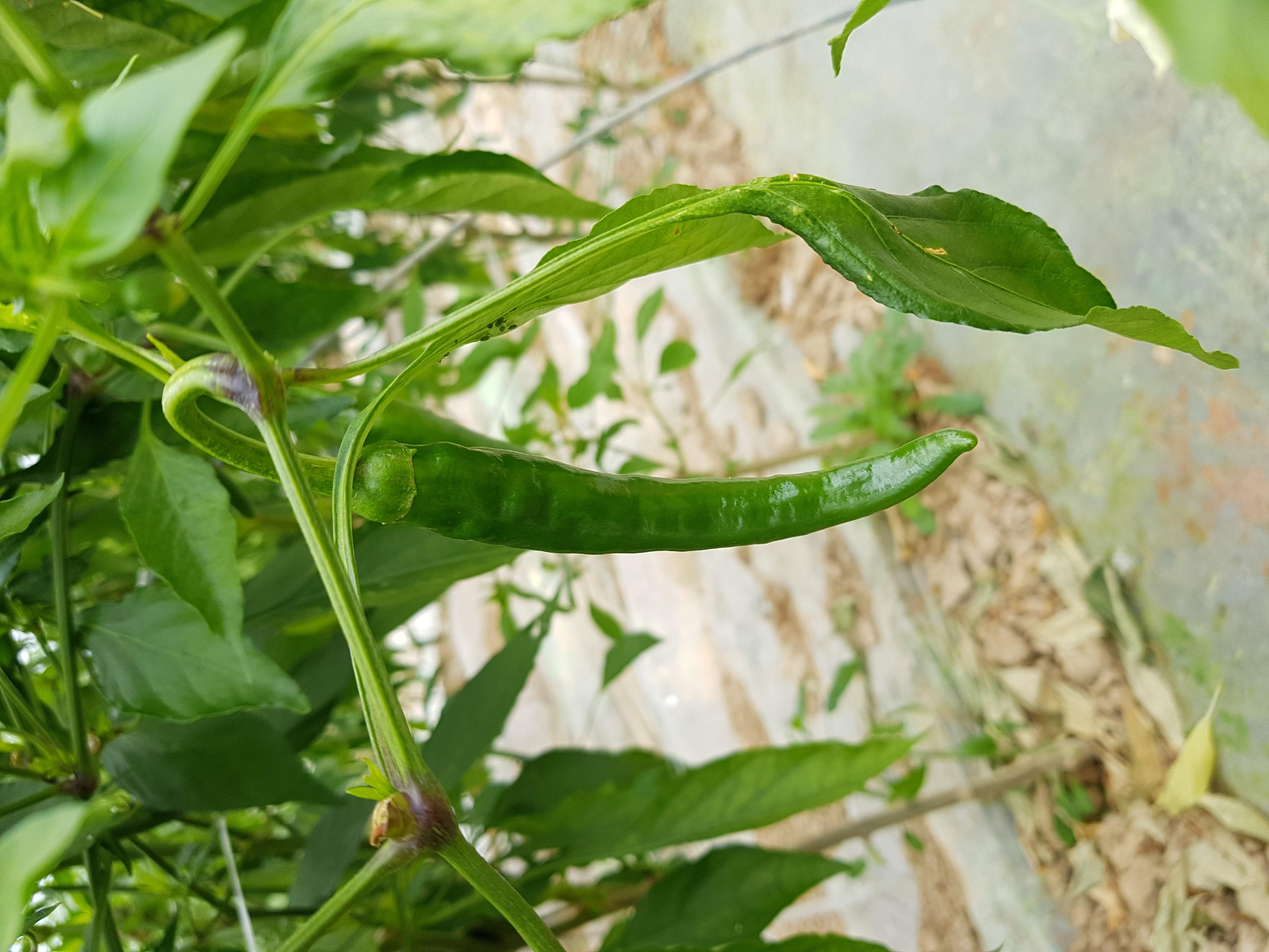Buah Cabai Sehat: (351, 422, 981, 560)
